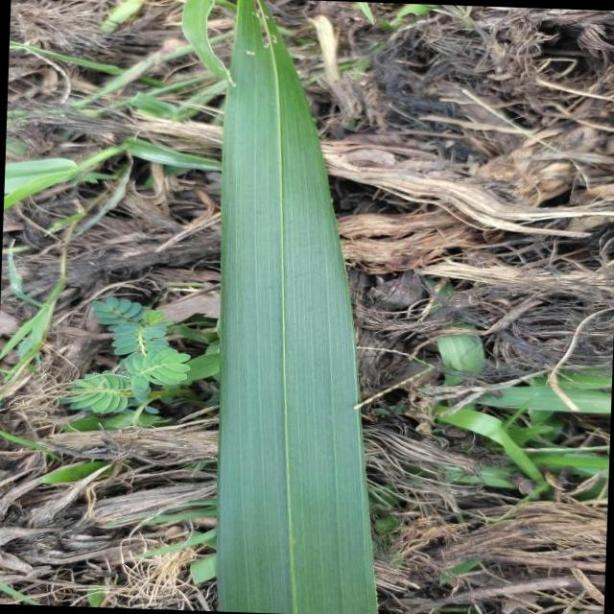Boron: (218, 0, 377, 614)
